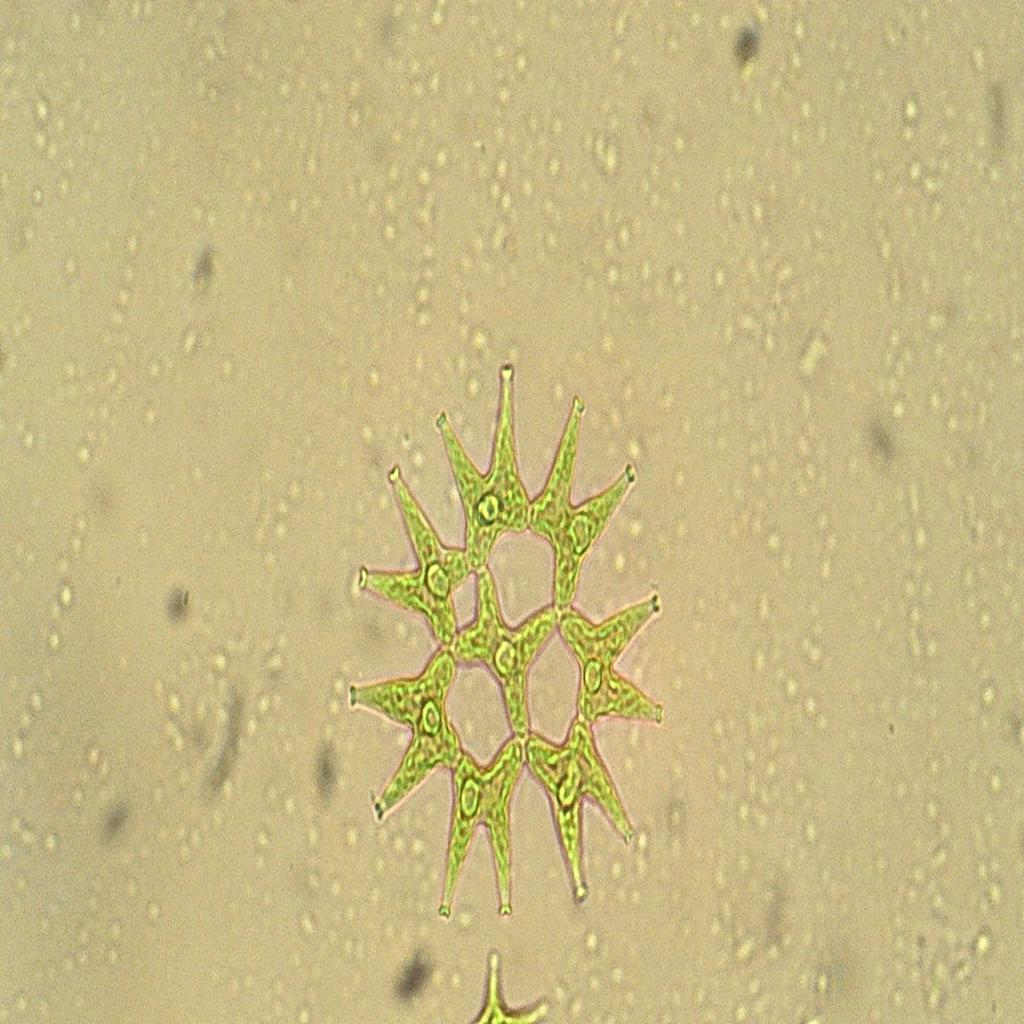Pediastrum_CTH: (336, 344, 682, 938)
